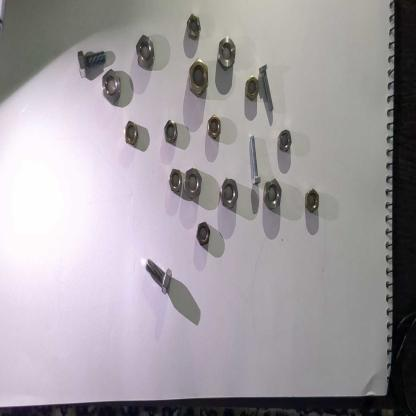Bolts: (142, 254, 173, 298), (258, 59, 276, 115), (78, 46, 108, 78), (245, 130, 260, 191)
NUTS: (135, 31, 158, 73), (188, 57, 211, 99), (100, 67, 124, 103), (180, 167, 204, 202), (219, 174, 240, 212), (262, 179, 284, 212), (218, 34, 237, 72), (193, 219, 214, 252), (184, 10, 202, 40), (304, 185, 319, 215), (244, 74, 260, 102), (206, 113, 223, 139), (167, 168, 184, 194), (164, 119, 180, 146), (125, 117, 138, 149), (277, 130, 294, 154)
